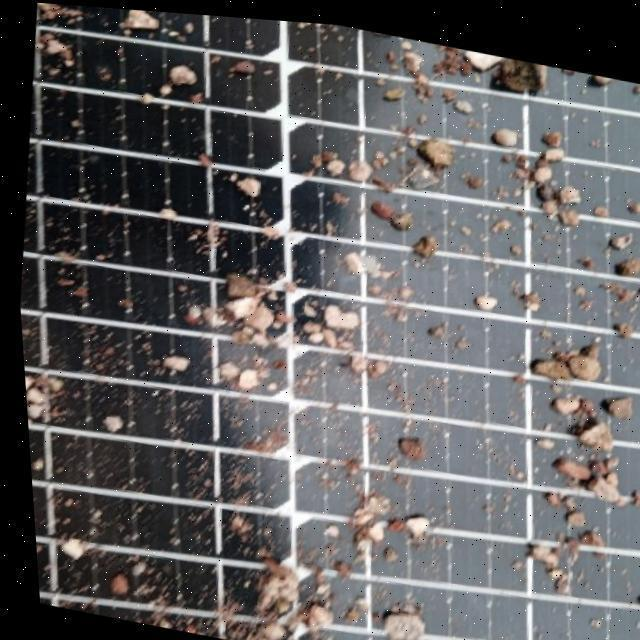Surface Contaminant: (16, 2, 640, 640)
